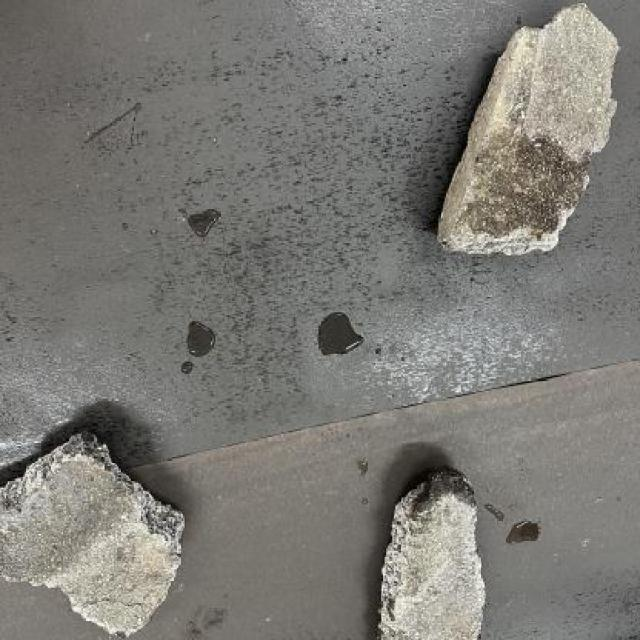Road Debris: (462, 126, 608, 248), (5, 457, 130, 585), (402, 497, 478, 640), (507, 25, 542, 127)
